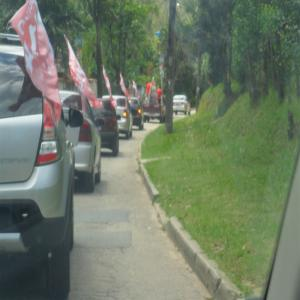Vehicle-registration-plate: (99, 126, 103, 132)
